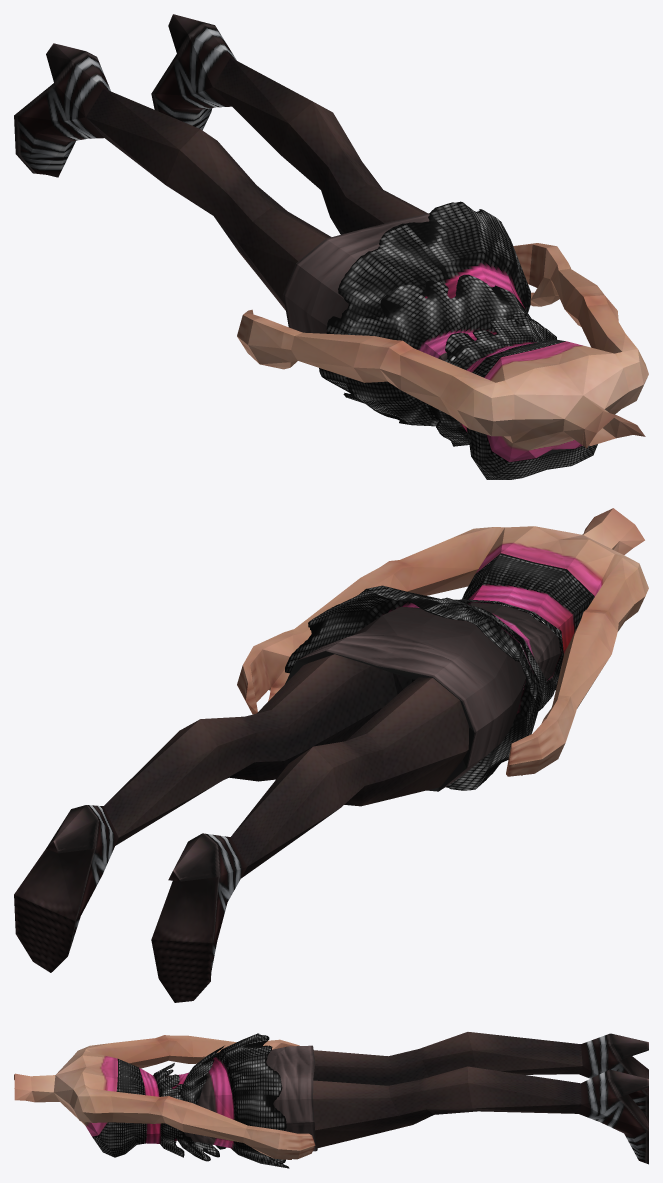
Rendered from common_dress_female_85219.obj.
3 renders of one model, top to bottom at view 1: azimuth 30°, elevation 25°; view 2: azimuth 150°, elevation 25°; view 3: azimuth 270°, elevation 25°, orthographic. The views are drawn at different scales.
Parts seen in each view (by area): view 1: common_dress_female_85219; view 2: common_dress_female_85219; view 3: common_dress_female_85219.
Boxes of the visible parts, bbox=[...] form: common_dress_female_85219: bbox=[14, 14, 648, 479]; common_dress_female_85219: bbox=[14, 508, 648, 1002]; common_dress_female_85219: bbox=[14, 1032, 648, 1168].
Bounding box in the file's own units: 28.62 × 16.35 × 78.47.
Materials: 2 (2 with a texture image).
